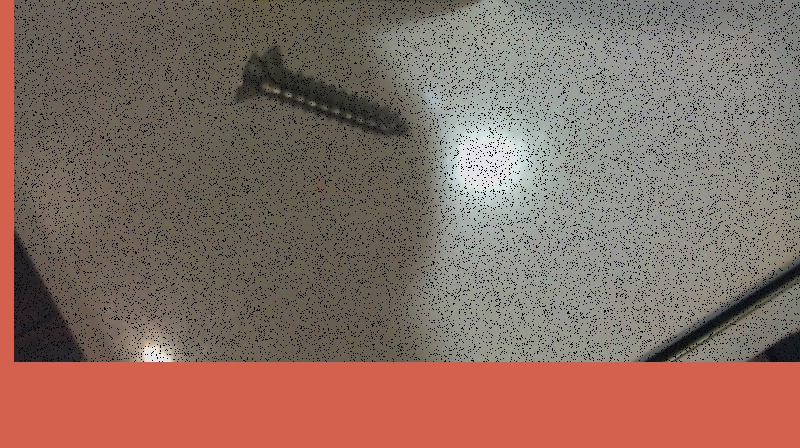S001: (230, 47, 412, 138)
